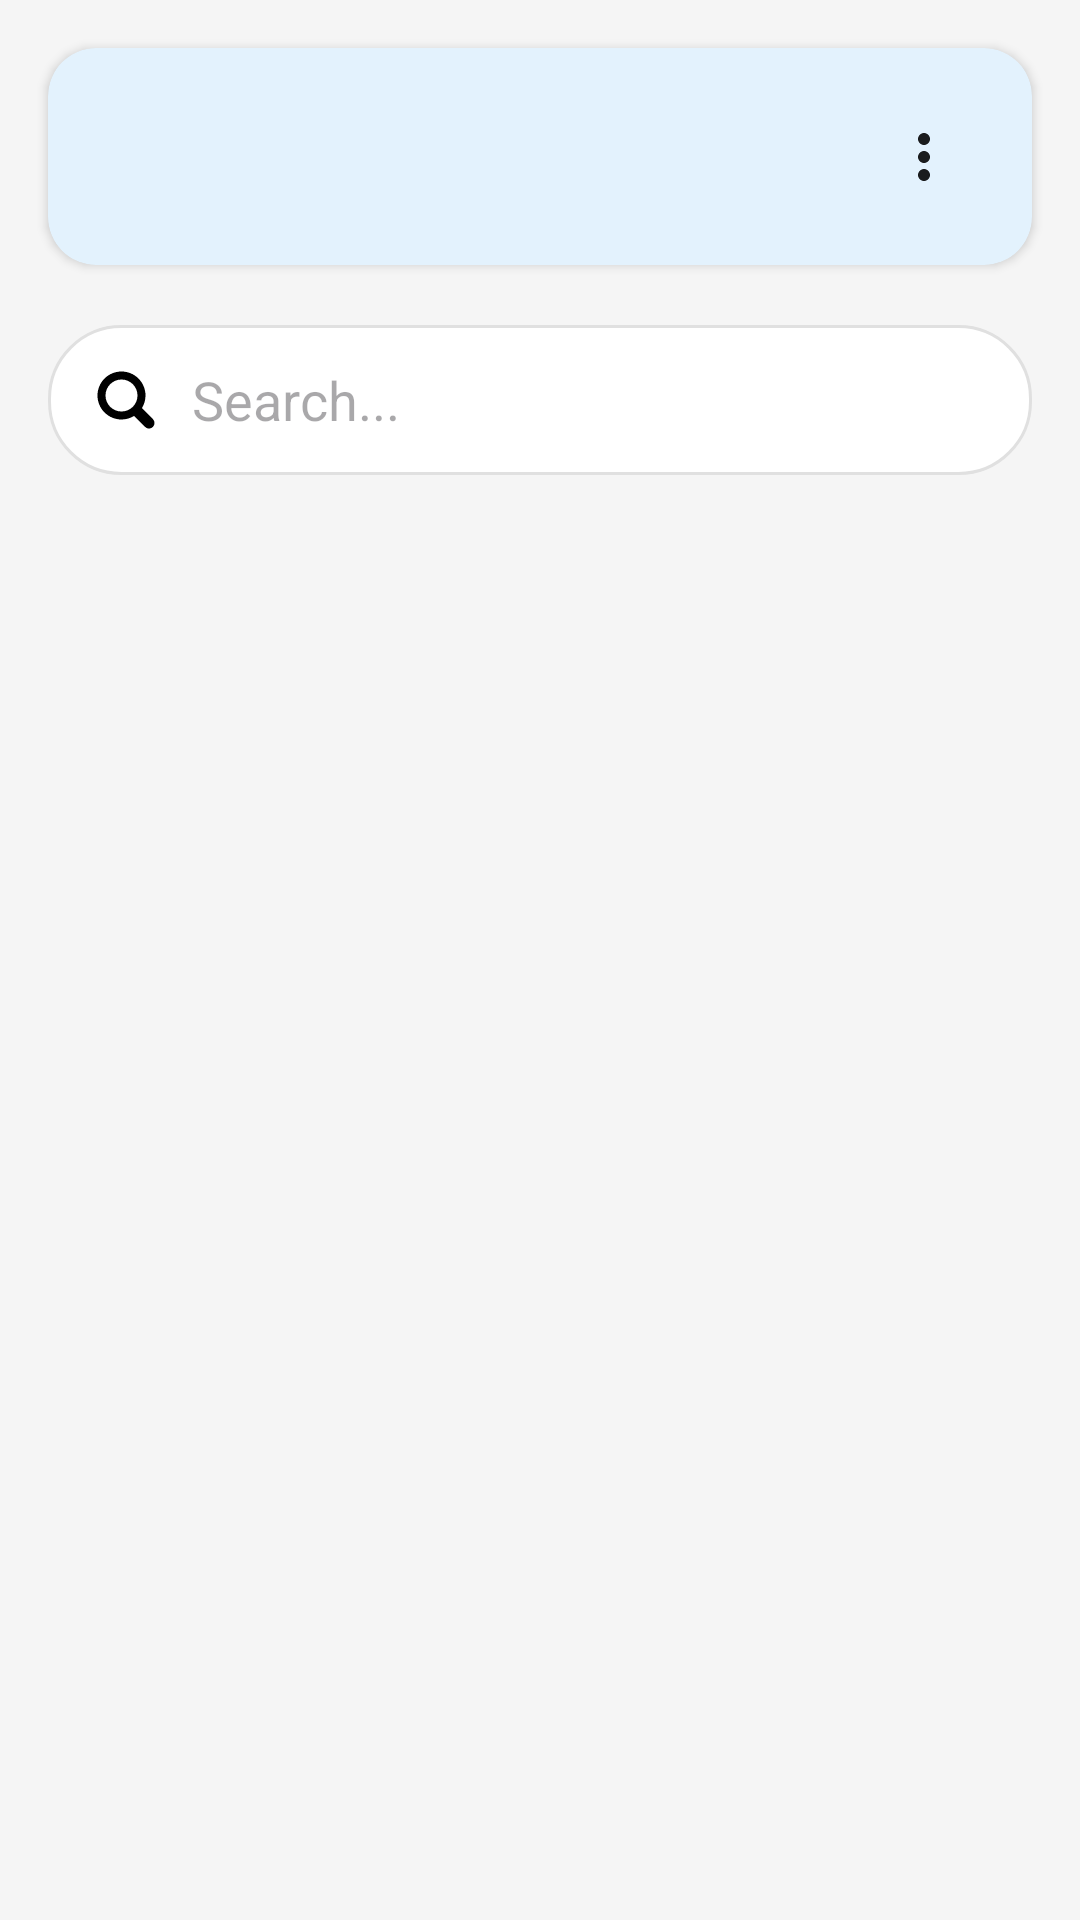

Icon bounding boxes for this 1080 × 1920 phone screenshot, format rect(x1, y1, x2, y2):
more vert: rect(918, 133, 930, 181)
